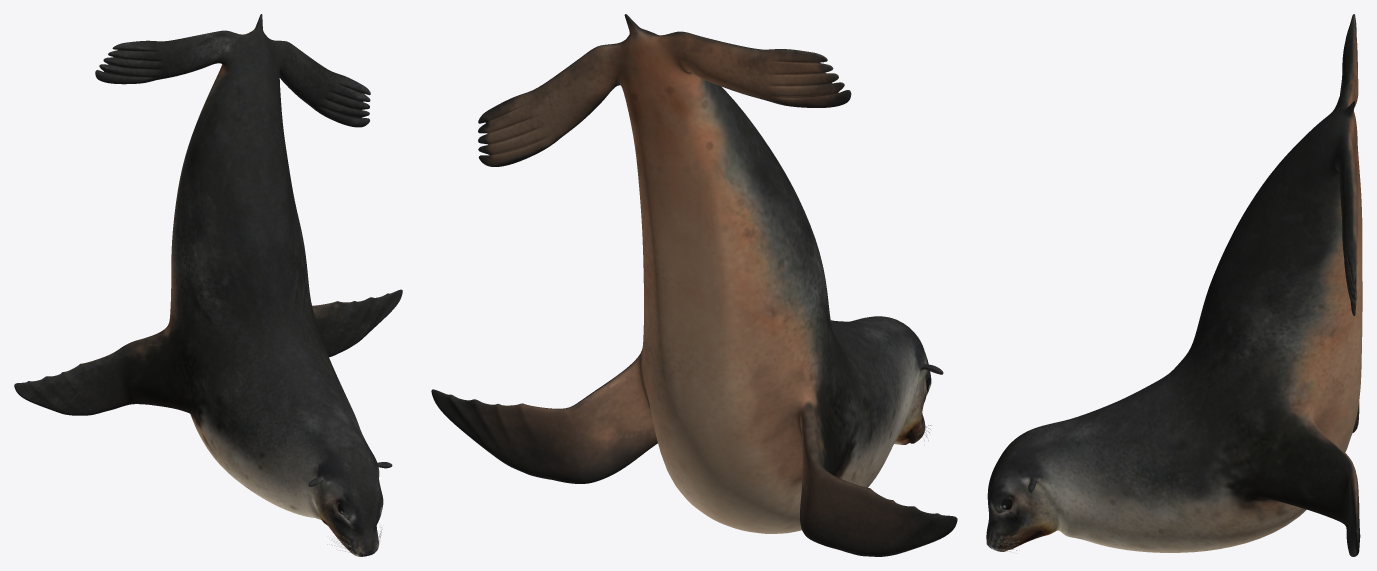
Rendered from sealion.glb.
3 renders of one model, left to right at view 1: azimuth 30°, elevation 25°; view 2: azimuth 150°, elevation 25°; view 3: azimuth 270°, elevation 25°, orthographic. The views are drawn at different scales.
Parts seen in each view (by area): view 1: sealion; view 2: sealion; view 3: sealion.
Boxes of the visible parts, x1,y1,x2,y2 form: sealion: [14, 14, 402, 556]; sealion: [431, 14, 957, 556]; sealion: [986, 14, 1362, 556].
Size of the model in its own units: 103 by 107 by 75.21.
1 material, 1 textured.
